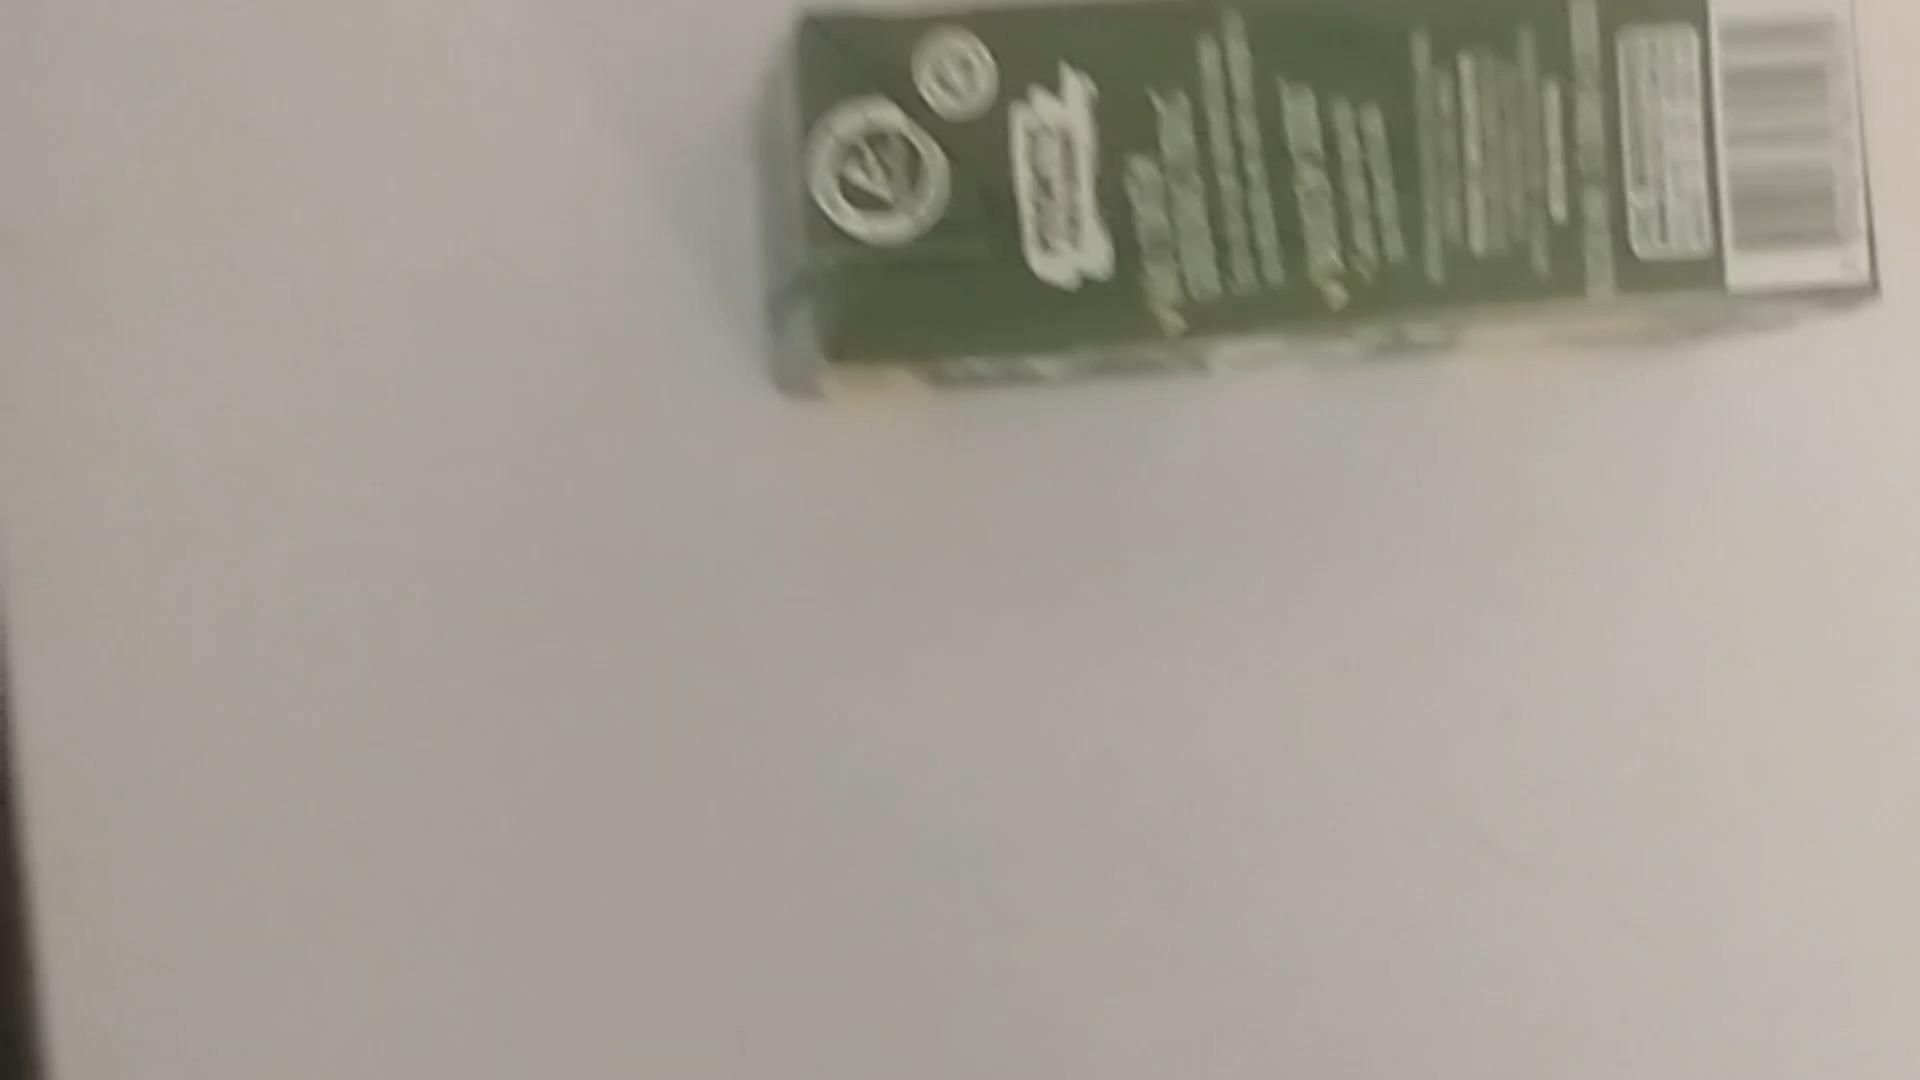coco: (737, 0, 1890, 422)
